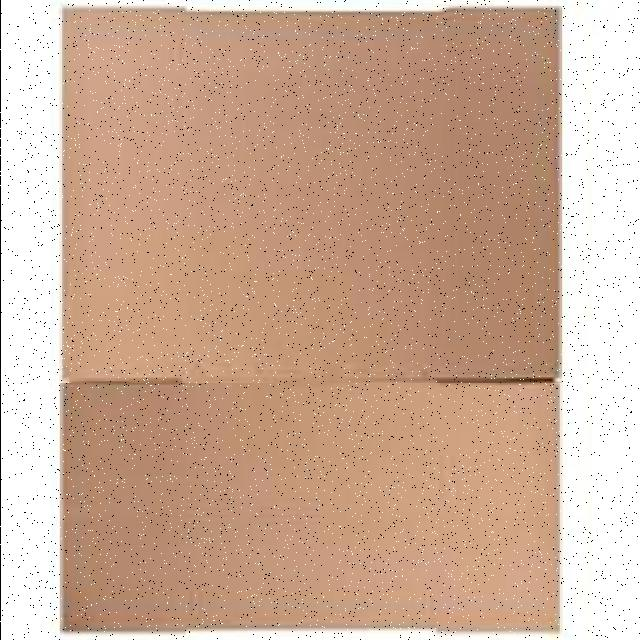normal: (54, 6, 566, 383)
